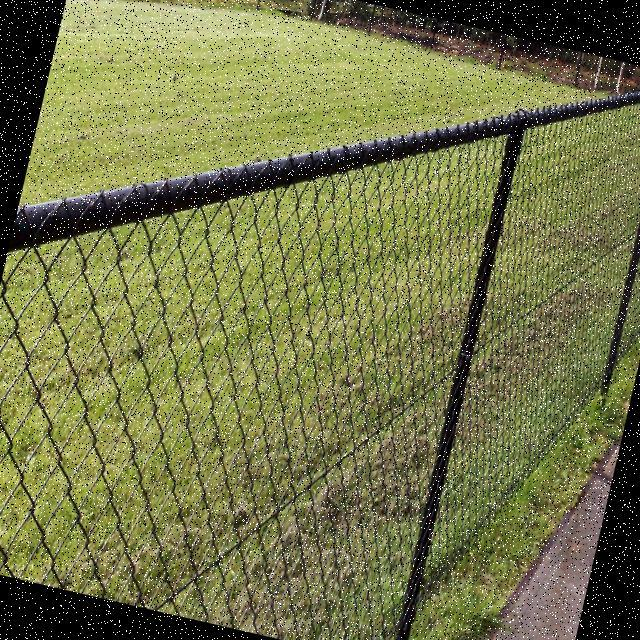fence line: (0, 17, 530, 639), (343, 34, 639, 639)
